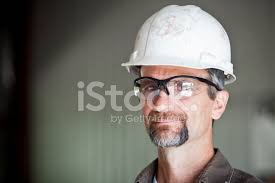Person_wearing_helmet: (119, 0, 239, 99)
